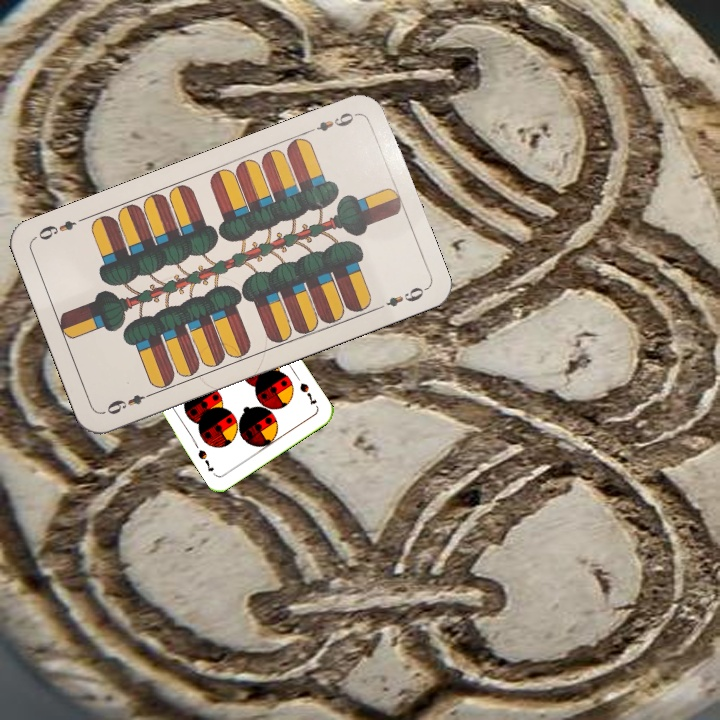E9: (100, 388, 157, 417), (303, 108, 360, 136)
S7: (296, 379, 320, 407)
